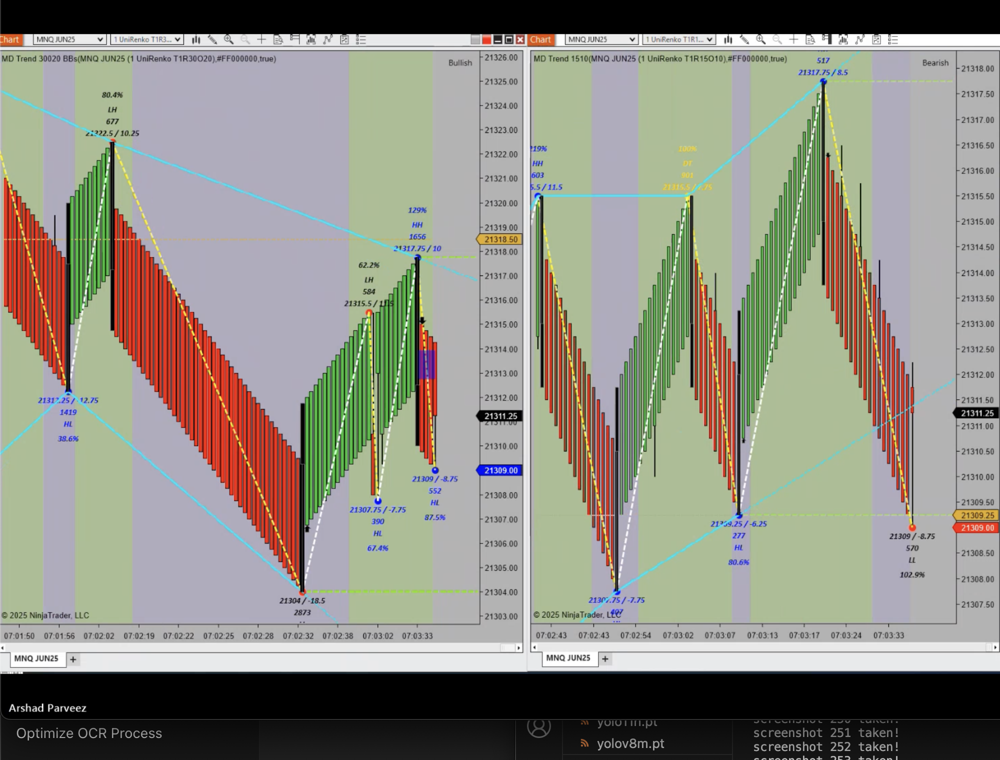HH: (527, 152, 555, 177), (410, 215, 433, 233)
HL: (729, 538, 759, 559), (366, 524, 393, 546), (424, 493, 451, 515), (59, 413, 82, 433)
LH: (101, 99, 126, 119), (357, 271, 376, 290)
LL: (895, 551, 922, 569)
